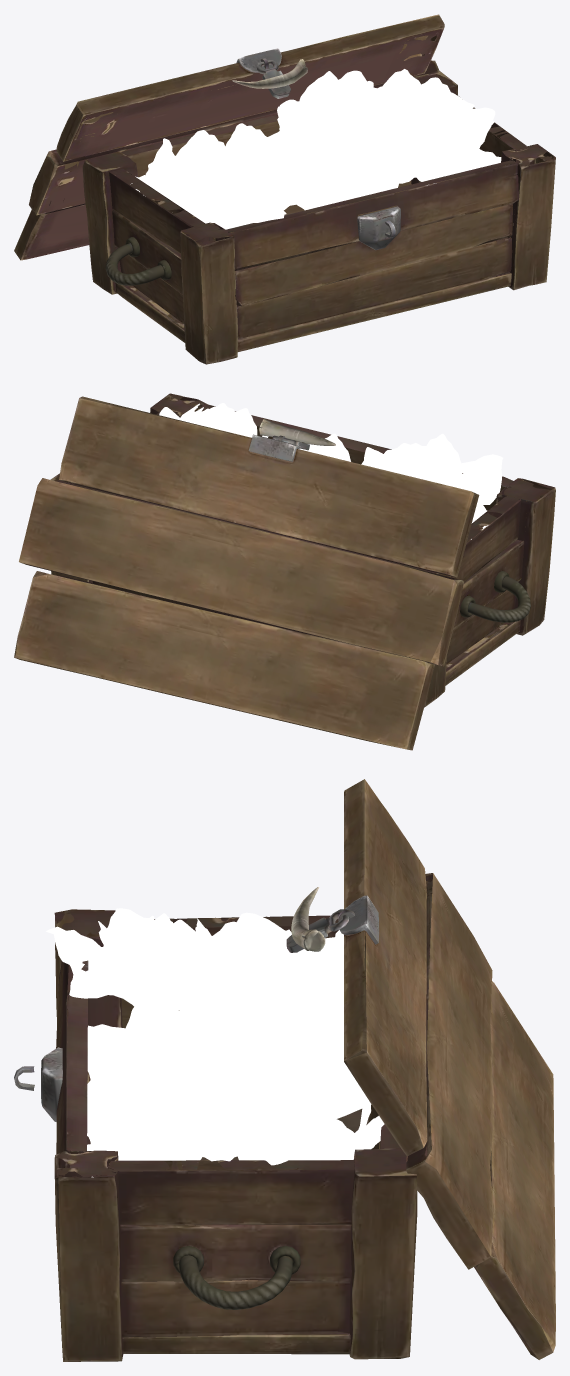
The picture shows the model from 3 angles, top to bottom: view 1: azimuth 30°, elevation 25°; view 2: azimuth 150°, elevation 25°; view 3: azimuth 270°, elevation 25°; orthographic projection. The views are drawn at different scales.
Parts seen in each view (by area): view 1: SM_Dec_Garou_Chest_Cabbage_LOD0; view 2: SM_Dec_Garou_Chest_Cabbage_LOD0; view 3: SM_Dec_Garou_Chest_Cabbage_LOD0.
Boxes of the visible parts, x1,y1,x2,y2 form: SM_Dec_Garou_Chest_Cabbage_LOD0: (14,14,555,364); SM_Dec_Garou_Chest_Cabbage_LOD0: (14,393,555,750); SM_Dec_Garou_Chest_Cabbage_LOD0: (14,779,555,1361).
Bounding box in the file's own units: 1.46 × 0.6916 × 1.07.
2 materials, 2 textured.
